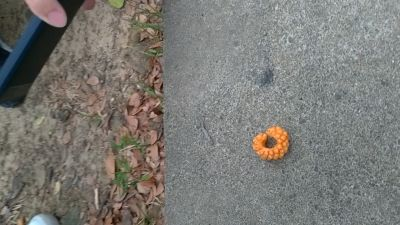eggs: (249, 125, 293, 163)
